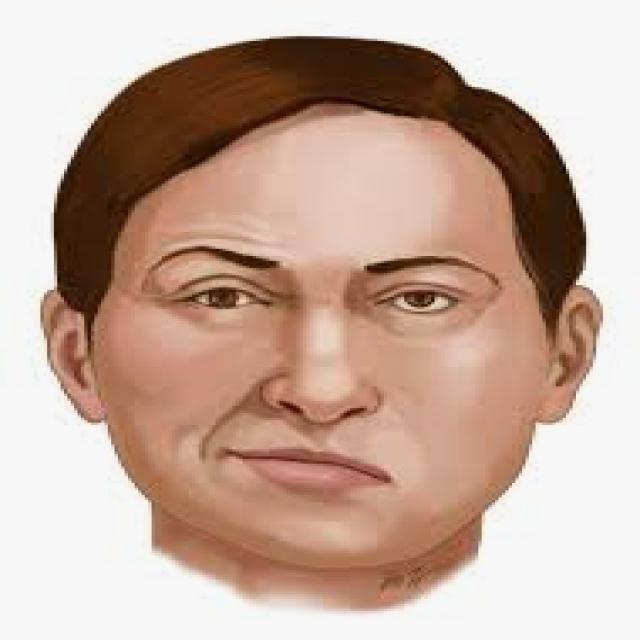stroke_face: (66, 33, 571, 569)
